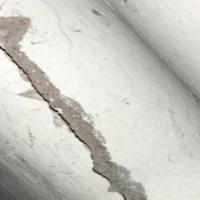crack: (0, 35, 145, 199)
